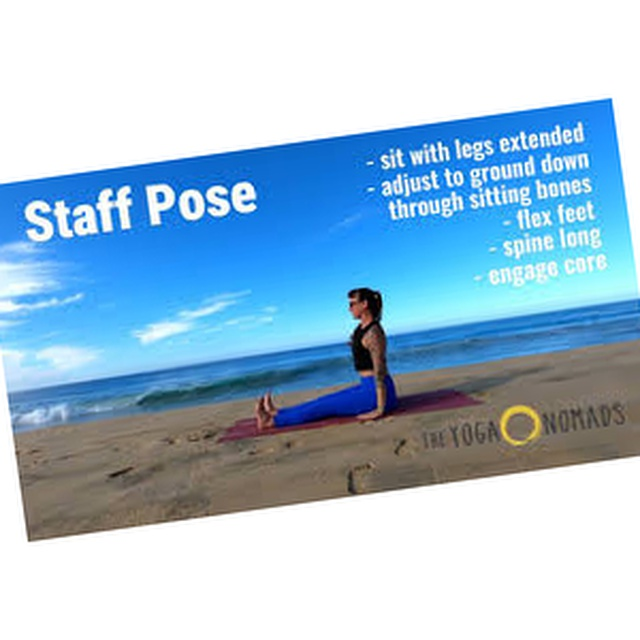Staff_Pose: (254, 287, 400, 430)
